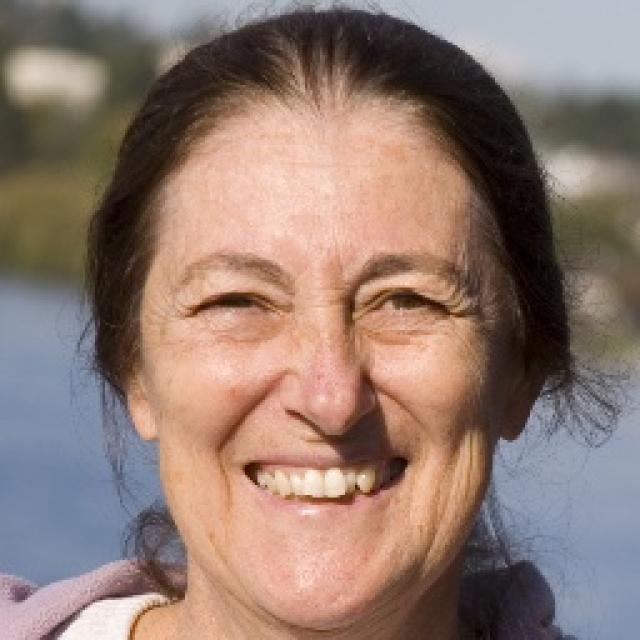earlobe: (499, 325, 555, 447)
